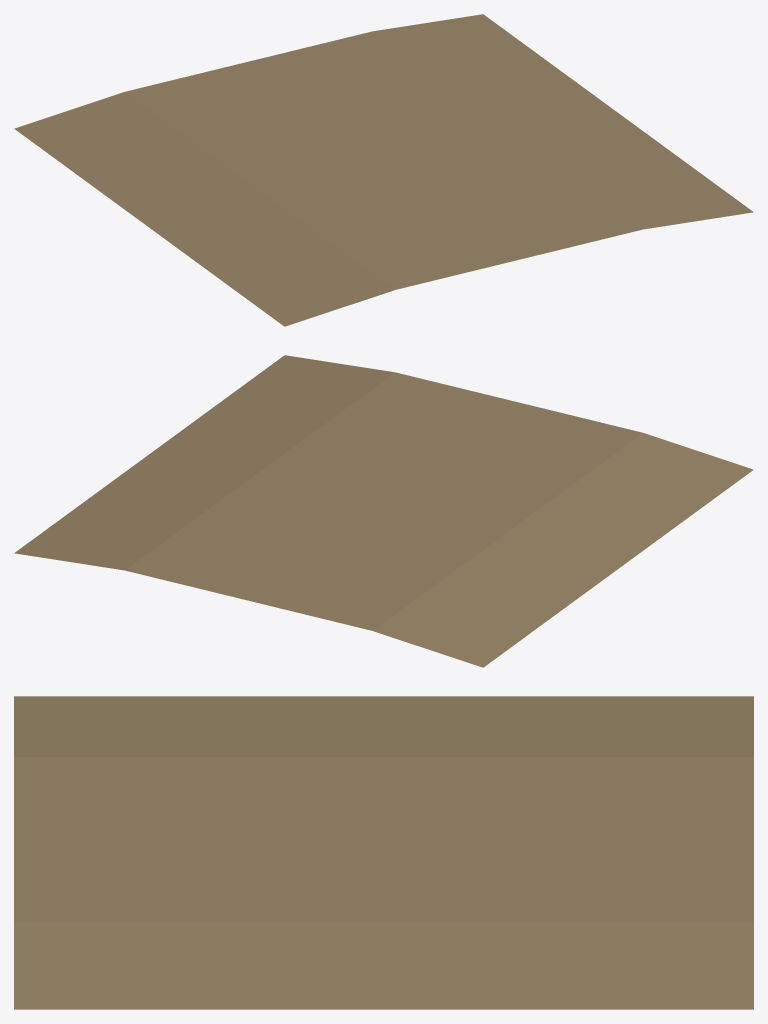
Rendered from body.fbx.
3 views of the same model, one above another, from view 1: azimuth 30°, elevation 25°; view 2: azimuth 150°, elevation 25°; view 3: azimuth 270°, elevation 25° (orthographic). The views are drawn at different scales.
Parts seen in each view (by area): view 1: Body.005; view 2: Body.005; view 3: Body.005.
Part boxes in pixels (x1=…): Body.005: x1=14, y1=14, x2=753, y2=326; Body.005: x1=14, y1=355, x2=753, y2=667; Body.005: x1=14, y1=696, x2=753, y2=1009.
Size of the model in its own units: 10 by 0.2 by 9.99.
